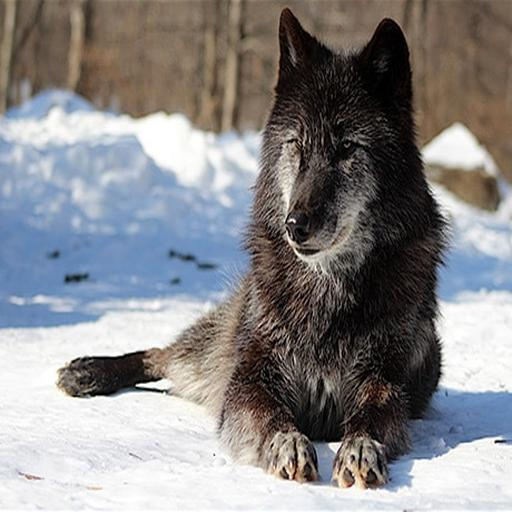Wolf: (55, 4, 454, 510)
